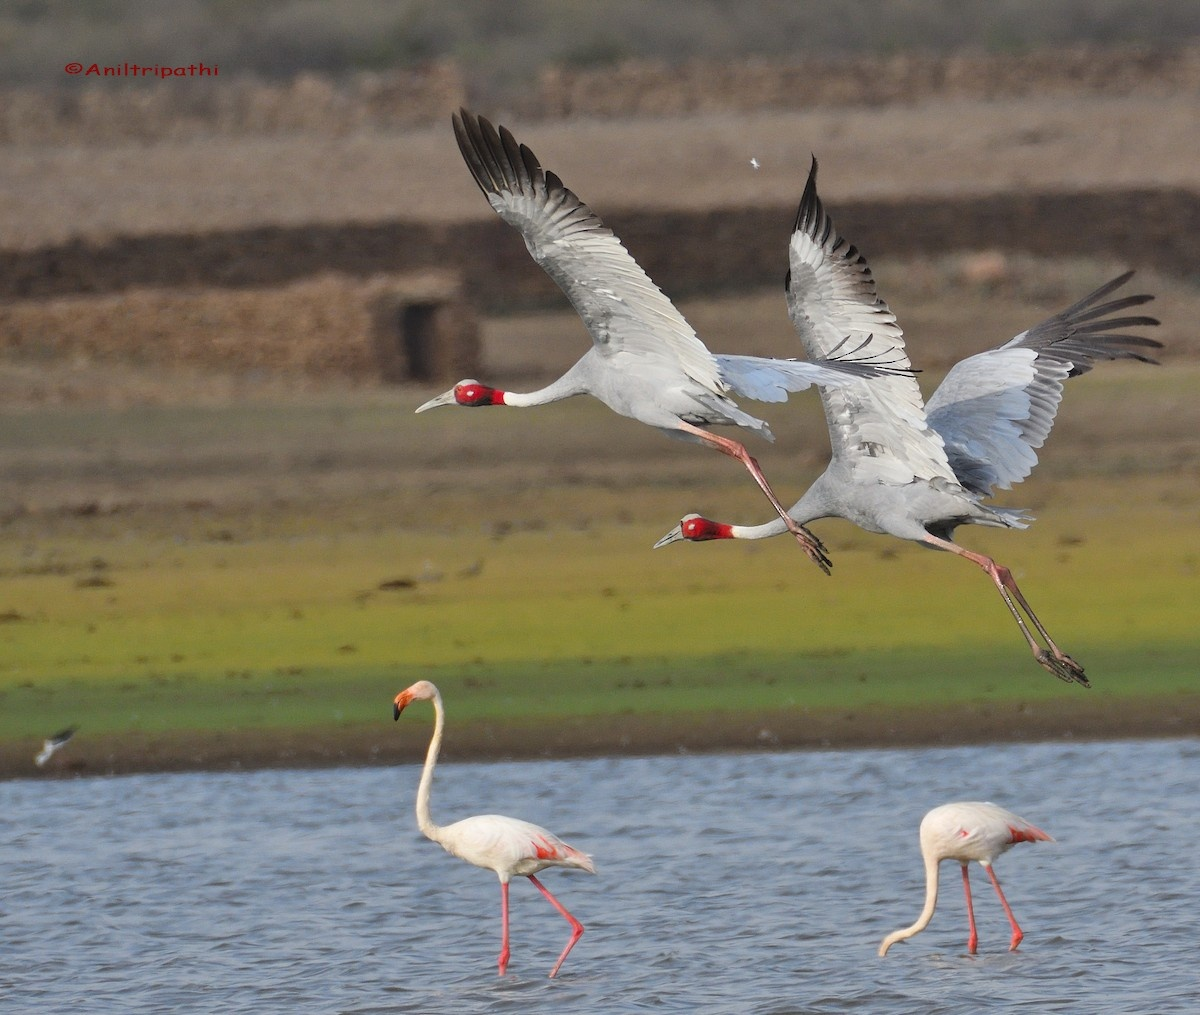crane: (650, 140, 1165, 696), (401, 99, 896, 566)
